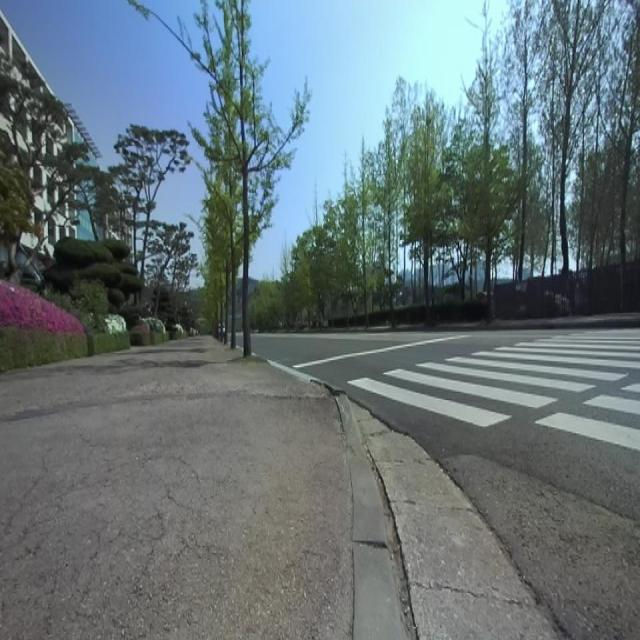sidewalk: (0, 337, 404, 639)
